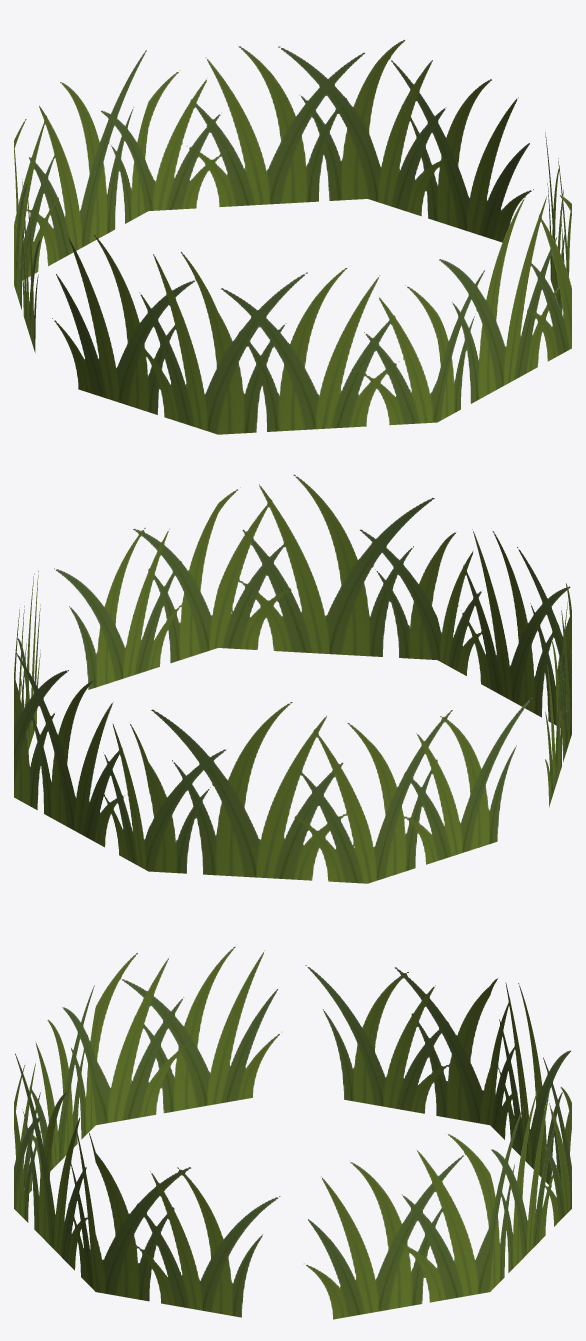
File: Grass_02.FBX
3 views of the same model, one above another, from view 1: azimuth 30°, elevation 25°; view 2: azimuth 150°, elevation 25°; view 3: azimuth 270°, elevation 25° (orthographic). The views are drawn at different scales.
Parts seen in each view (by area): view 1: Grass_01; view 2: Grass_01; view 3: Grass_01.
Part boxes in pixels (bbox=[...]): Grass_01: bbox=[14, 39, 571, 434]; Grass_01: bbox=[14, 474, 571, 883]; Grass_01: bbox=[14, 946, 571, 1319].
Bounding box in the file's own units: 147 × 51.69 × 147.
1 material, 1 textured.
